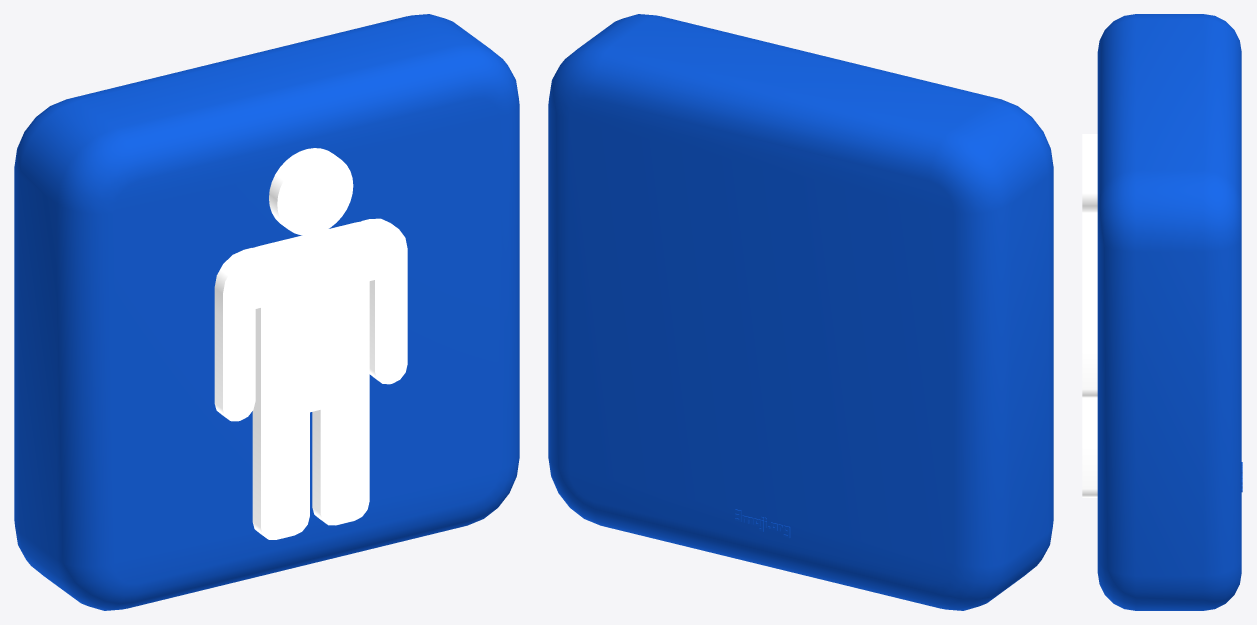
File: mens_room.glb
3 renders of one model, left to right at view 1: azimuth 30°, elevation 25°; view 2: azimuth 150°, elevation 25°; view 3: azimuth 270°, elevation 25°, orthographic. The views are drawn at different scales.
Visible parts, largest first — view 1: Cube.124; view 2: Cube.124; view 3: Cube.124.
Part boxes in pixels (box(x1,y1,x2,y2)): Cube.124: box(14, 14, 519, 610); Cube.124: box(548, 14, 1053, 610); Cube.124: box(1082, 14, 1242, 610).
Bounding box in the file's own units: 2.2 × 2.2 × 0.7336.
Materials: 1 (1 with a texture image).
